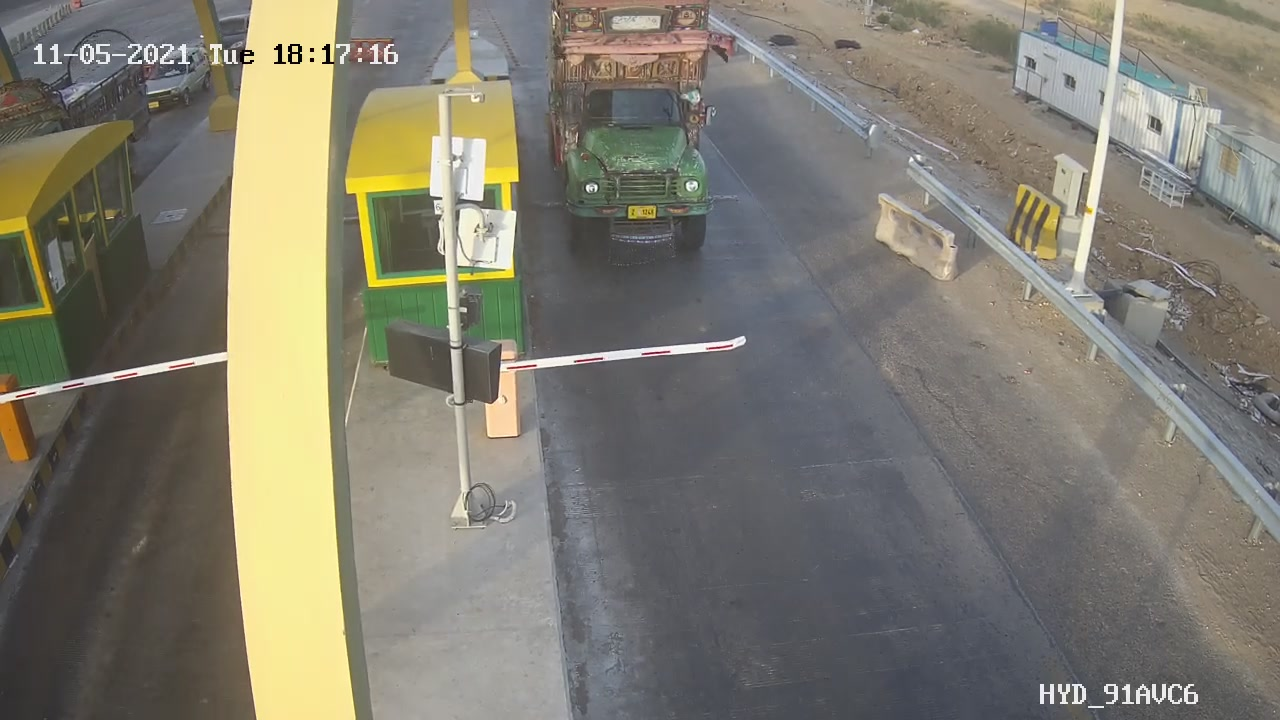F5: (532, 1, 736, 256)
